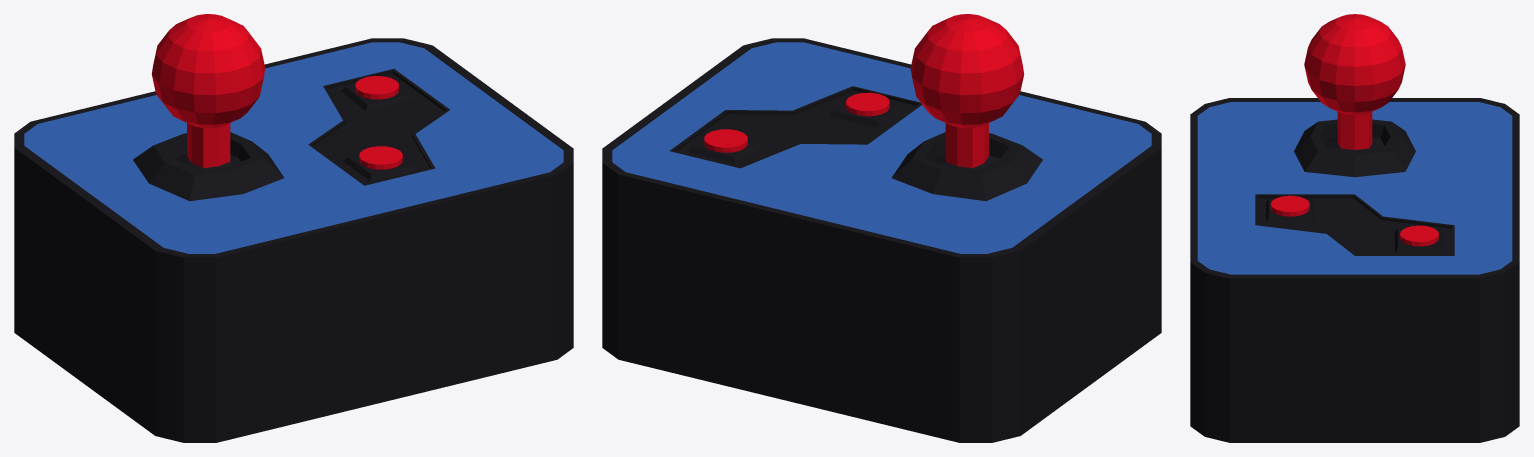
File: retro game controller.fbx
The picture shows the model from 3 angles, left to right: view 1: azimuth 30°, elevation 25°; view 2: azimuth 150°, elevation 25°; view 3: azimuth 270°, elevation 25°; orthographic projection. The views are drawn at different scales.
Visible parts, largest first — view 1: Cube, Sphere, Cylinder.001, Cylinder; view 2: Cube, Sphere, Cylinder, Cylinder.001; view 3: Cube, Sphere, Cylinder.001, Cylinder.
Part boxes in pixels (bbox=[...]): Cube: bbox=[14, 38, 573, 442]; Sphere: bbox=[151, 14, 265, 128]; Cylinder.001: bbox=[359, 146, 402, 169]; Cylinder: bbox=[355, 76, 398, 99]; Cube: bbox=[602, 38, 1161, 442]; Sphere: bbox=[910, 14, 1024, 128]; Cylinder: bbox=[704, 129, 747, 152]; Cylinder.001: bbox=[846, 92, 889, 116]; Cube: bbox=[1190, 98, 1519, 442]; Sphere: bbox=[1304, 14, 1405, 115]; Cylinder.001: bbox=[1270, 195, 1309, 216]; Cylinder: bbox=[1400, 225, 1438, 246].
Bounding box in the file's own units: 260 × 199 × 200.
